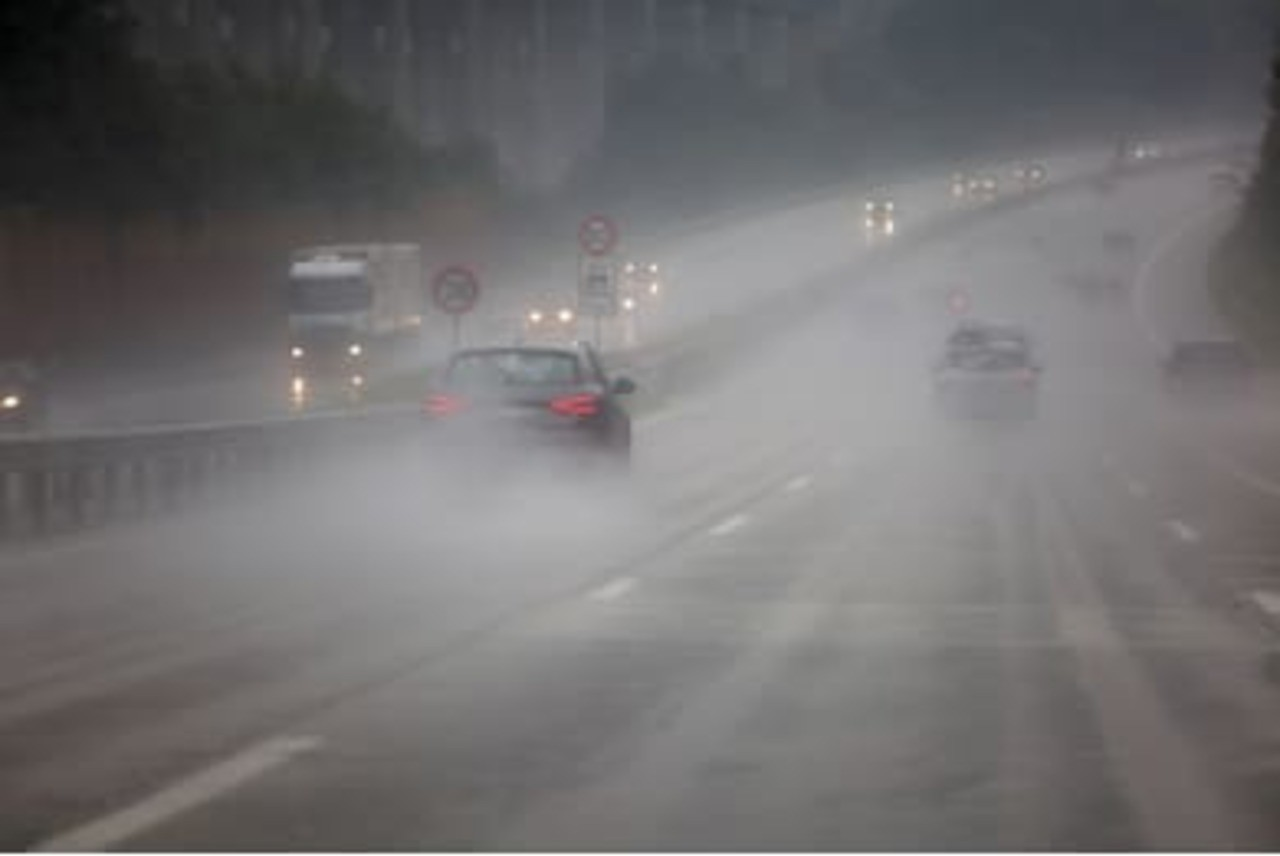car: (424, 340, 632, 487), (931, 339, 1038, 414), (1166, 333, 1265, 413), (1, 361, 49, 432), (524, 287, 574, 330), (625, 251, 665, 280), (864, 190, 896, 215)
truck: (288, 244, 424, 376)
